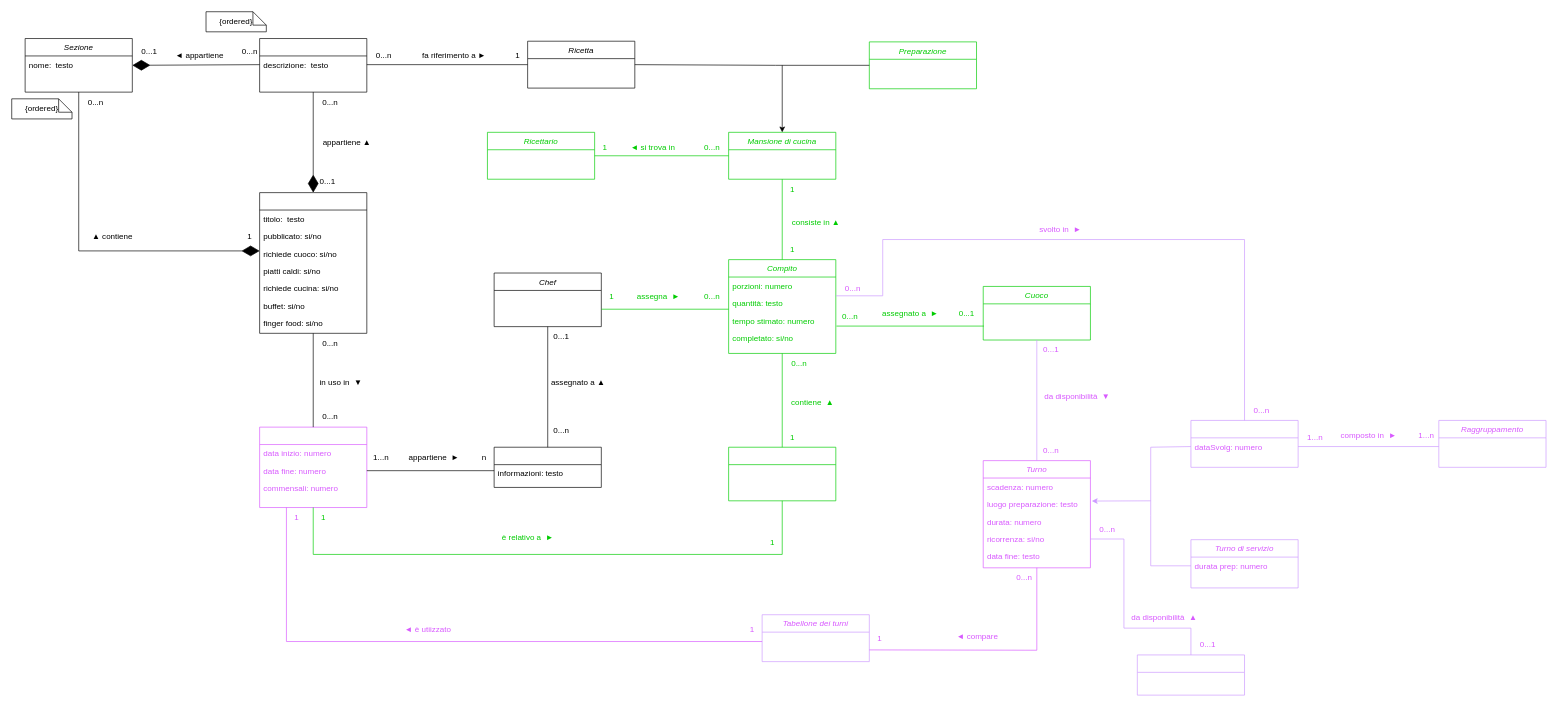
Image size: 1558x707. Some labels were removed from this diagram. The shapes that lost their labels are listed below. From the top down, each one's box as (x1, y1, x2, y2) in pixels, then its label:
(259, 38, 367, 92): Voce
(259, 192, 367, 333): Menù
(1190, 420, 1298, 467): Turno di cucina
(259, 426, 367, 508): Servizio
(493, 447, 601, 487): Evento
(728, 447, 836, 501): Foglio riepilogativo
(1137, 654, 1245, 695): Personale di servizio
